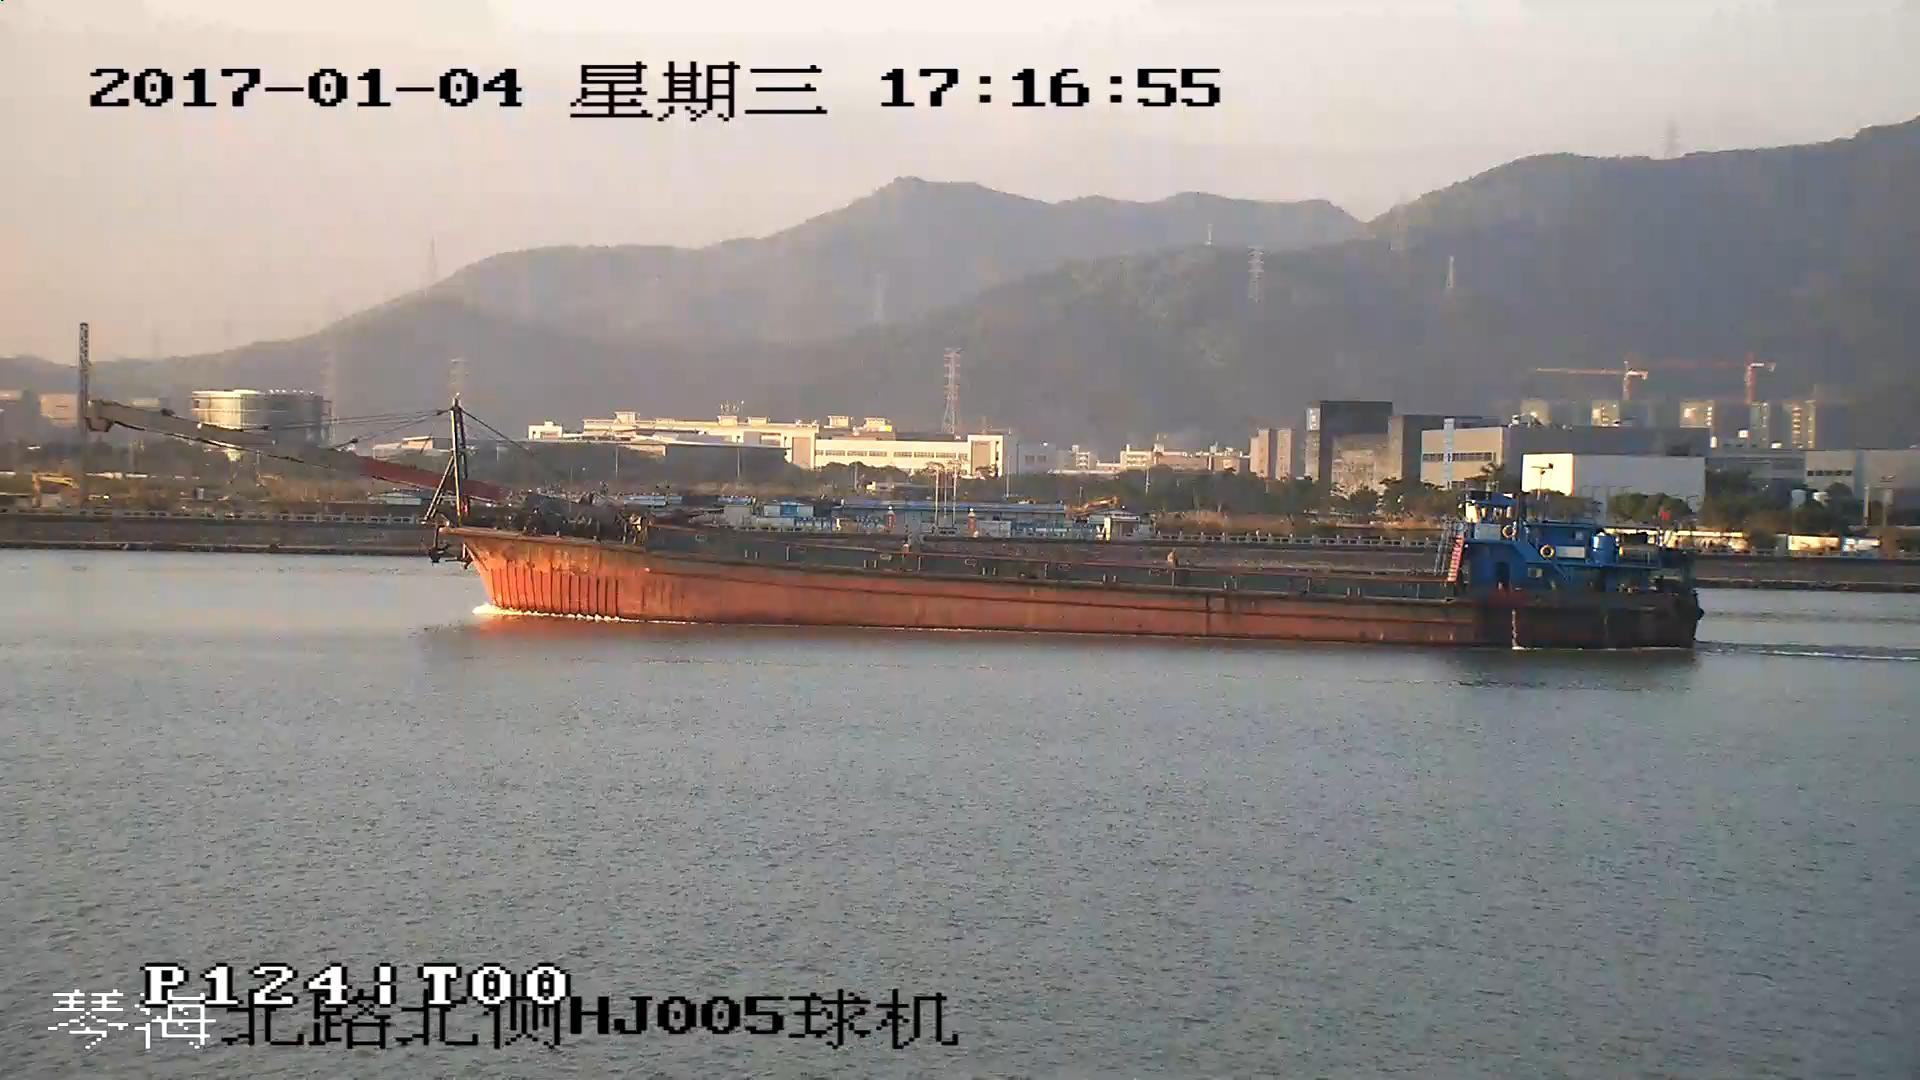bulk cargo carrier: (94, 400, 1701, 652)
